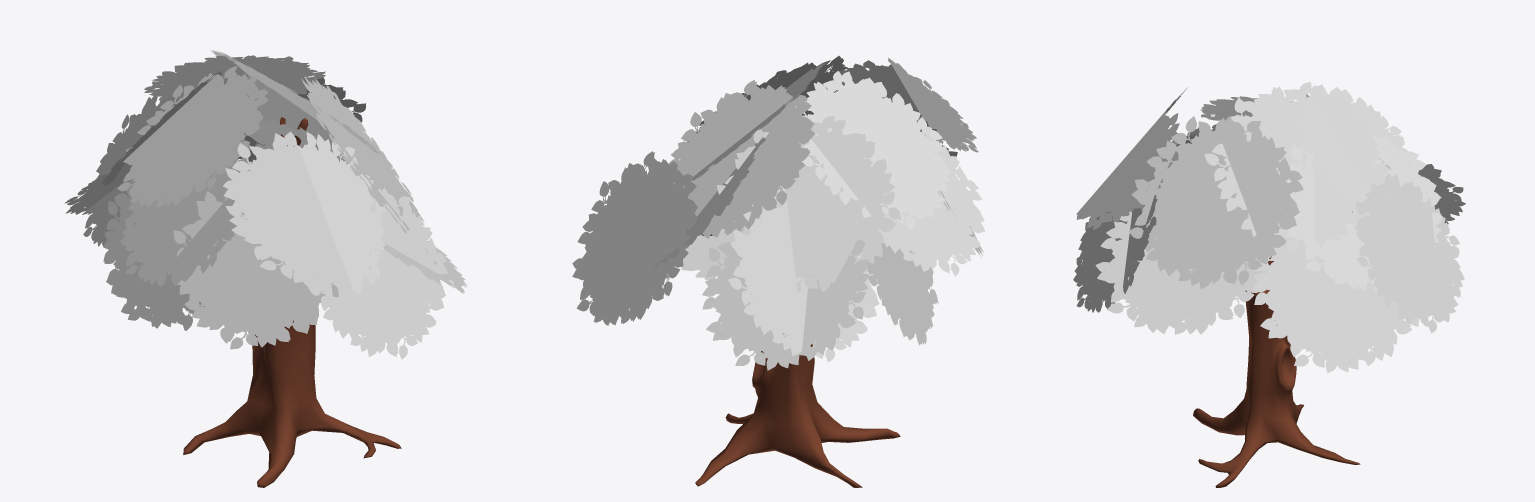
The model's file is tree2.fbx.
3 views of the same model, side by side, from view 1: azimuth 30°, elevation 25°; view 2: azimuth 150°, elevation 25°; view 3: azimuth 270°, elevation 25° (orthographic). The views are drawn at different scales.
Visible parts, largest first — view 1: hojas.002; view 2: hojas.002; view 3: hojas.002.
Part boxes in pixels (left/top/right/bottom): hojas.002: left=64, top=50, right=467, bottom=487; hojas.002: left=572, top=56, right=985, bottom=487; hojas.002: left=1073, top=82, right=1465, bottom=487.
Bounding box in the file's own units: 1774 × 1912 × 2052.
